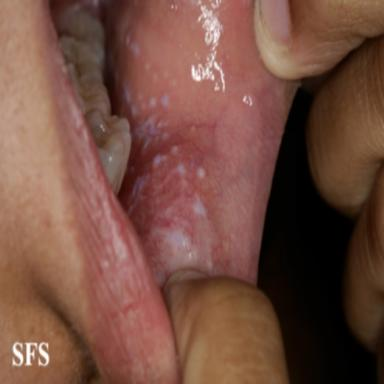lichen: (110, 33, 229, 290)
